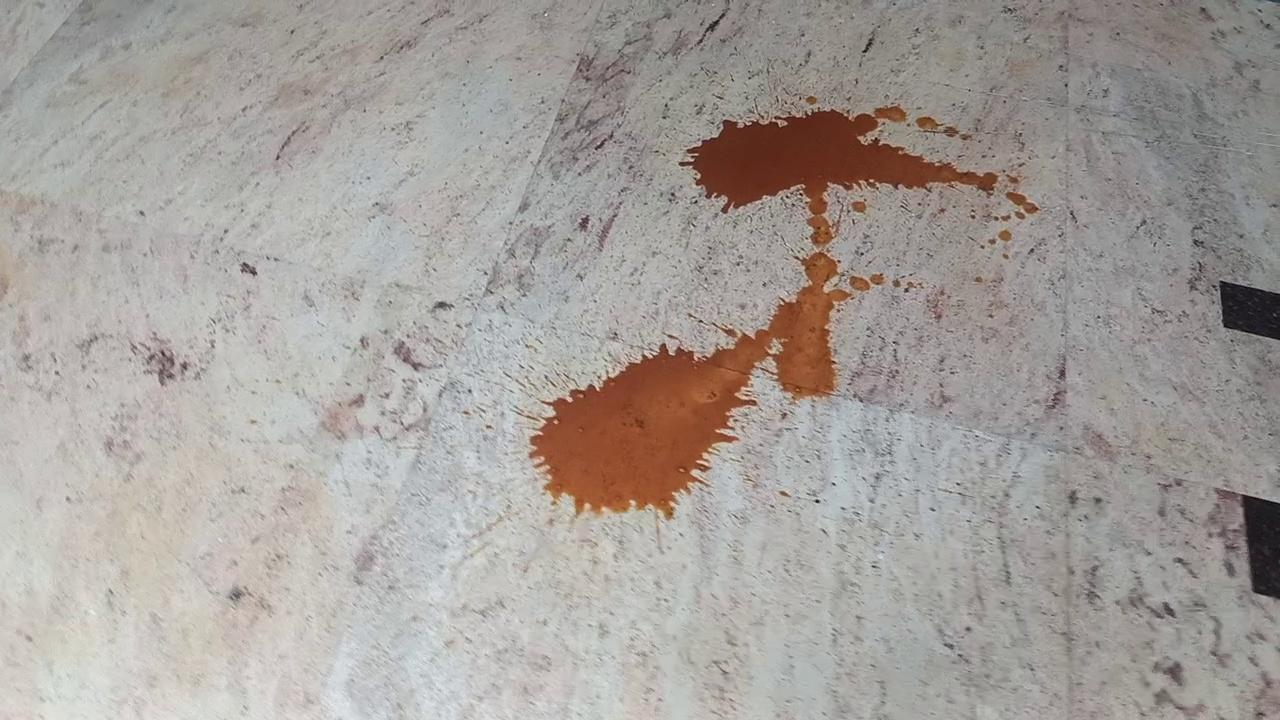dirty_floor: (526, 100, 1045, 520)
